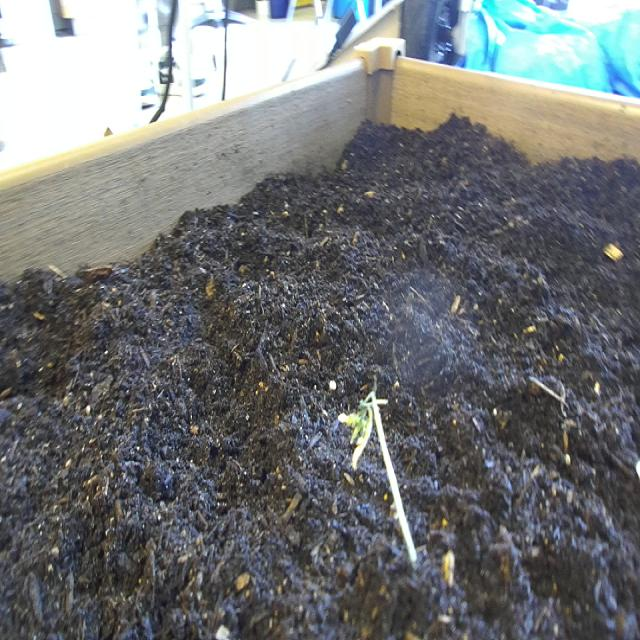Unhealthy: (334, 384, 428, 574)
